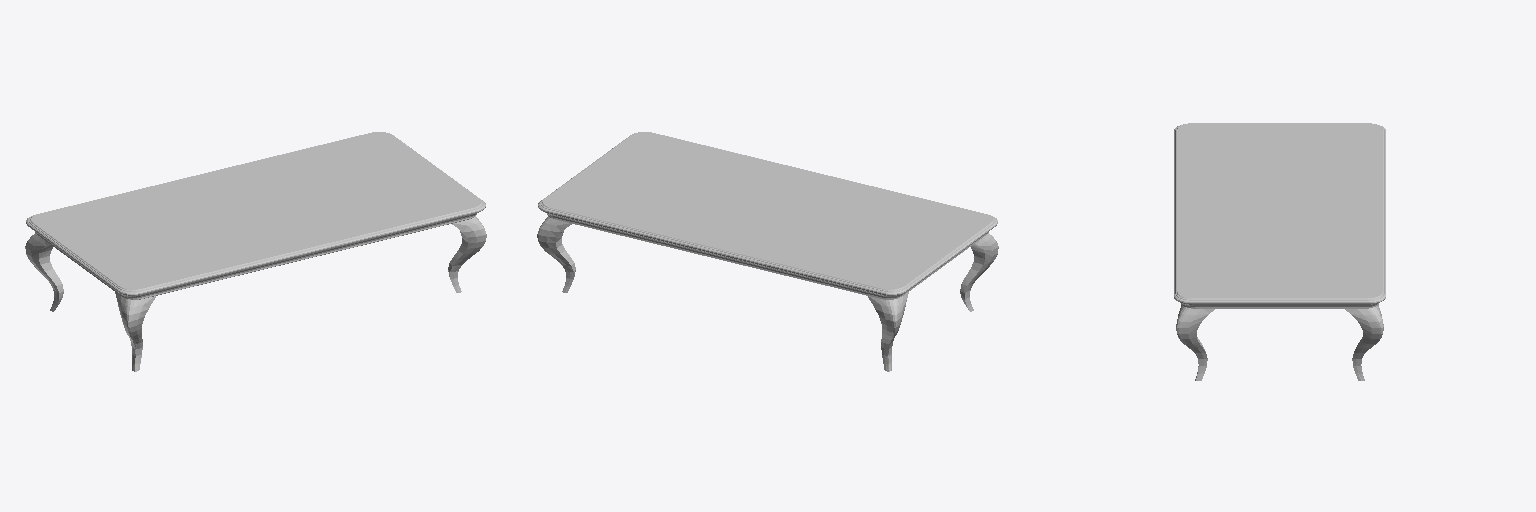
File: Table.obj
The picture shows the model from 3 angles: view 1: azimuth 30°, elevation 25°; view 2: azimuth 150°, elevation 25°; view 3: azimuth 270°, elevation 25°; orthographic projection.
Visible parts, largest first — view 1: Vintage_Furniture_Coffee_Table; view 2: Vintage_Furniture_Coffee_Table; view 3: Vintage_Furniture_Coffee_Table.
Boxes of the visible parts, x1,y1,x2,y2 form: Vintage_Furniture_Coffee_Table: [25, 132, 486, 371]; Vintage_Furniture_Coffee_Table: [537, 132, 998, 371]; Vintage_Furniture_Coffee_Table: [1174, 123, 1385, 380].
Size of the model in its own units: 5.16 by 1.22 by 2.6.